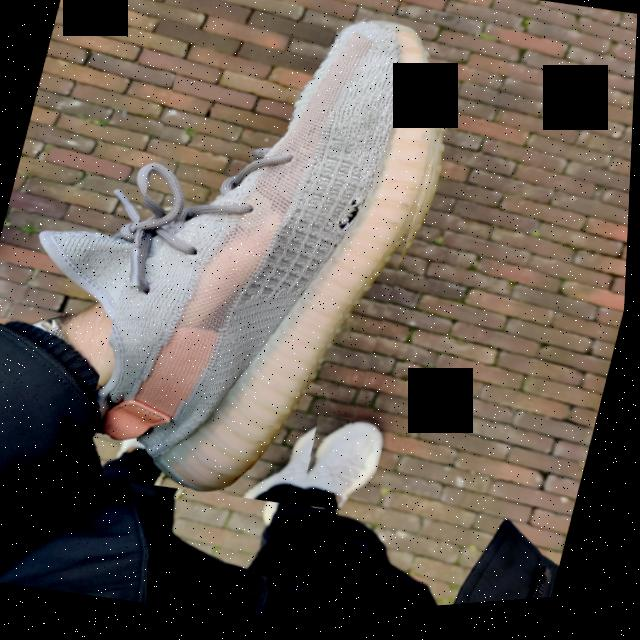shoe: (77, 0, 472, 534), (300, 415, 393, 524)
